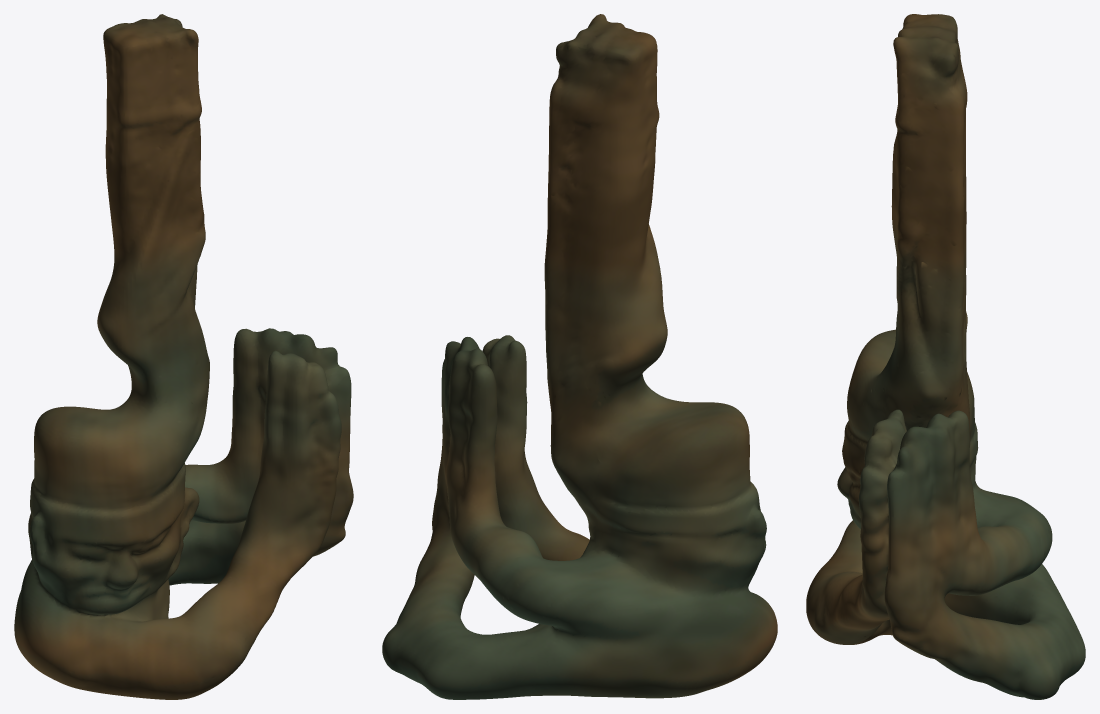
The model's file is niutou.glb.
3 renders of one model, left to right at view 1: azimuth 30°, elevation 25°; view 2: azimuth 150°, elevation 25°; view 3: azimuth 270°, elevation 25°, orthographic. The views are drawn at different scales.
Visible parts, largest first — view 1: model; view 2: model; view 3: model.
Boxes of the visible parts, <box> form: model: <box>14,14,353,699</box>; model: <box>382,14,777,699</box>; model: <box>806,14,1085,699</box>.
Size of the model in its own units: 0.5261 by 1 by 0.4042.
